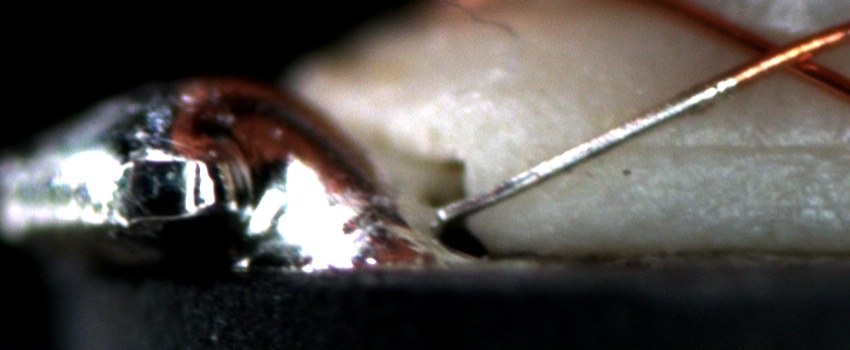CL: (727, 24, 832, 85)
DL: (622, 118, 850, 182)
TS: (438, 76, 737, 220)
